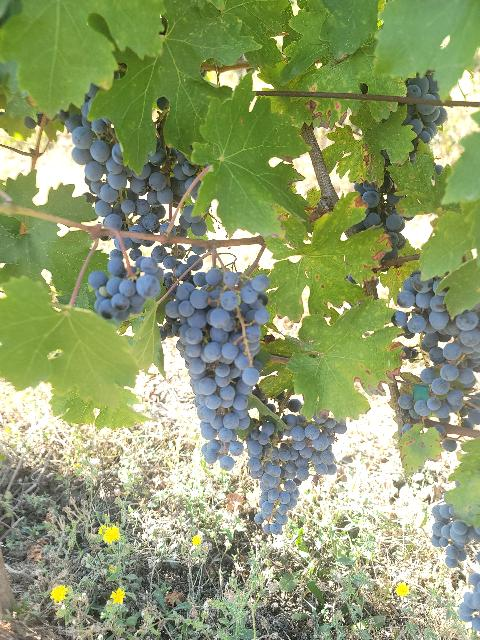grapes: (176, 268, 269, 462), (391, 270, 480, 419), (246, 421, 309, 535), (88, 250, 160, 322), (285, 399, 336, 474)
